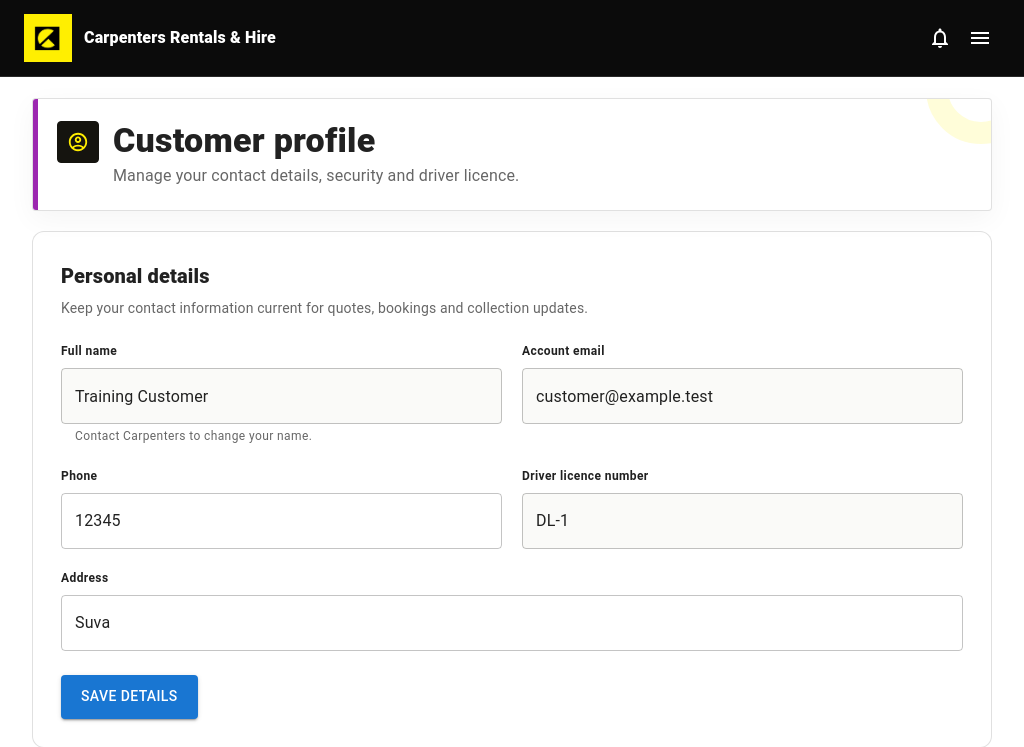
Scenario: retains profile edits when the server cannot accept current preference payloads
The width and height of the screenshot is (1024, 747).
Expected: the heading "Personal details" is shown, [61, 264, 210, 288]
Step 1. Click the button "Save details" → (129, 697), box [61, 675, 198, 719]
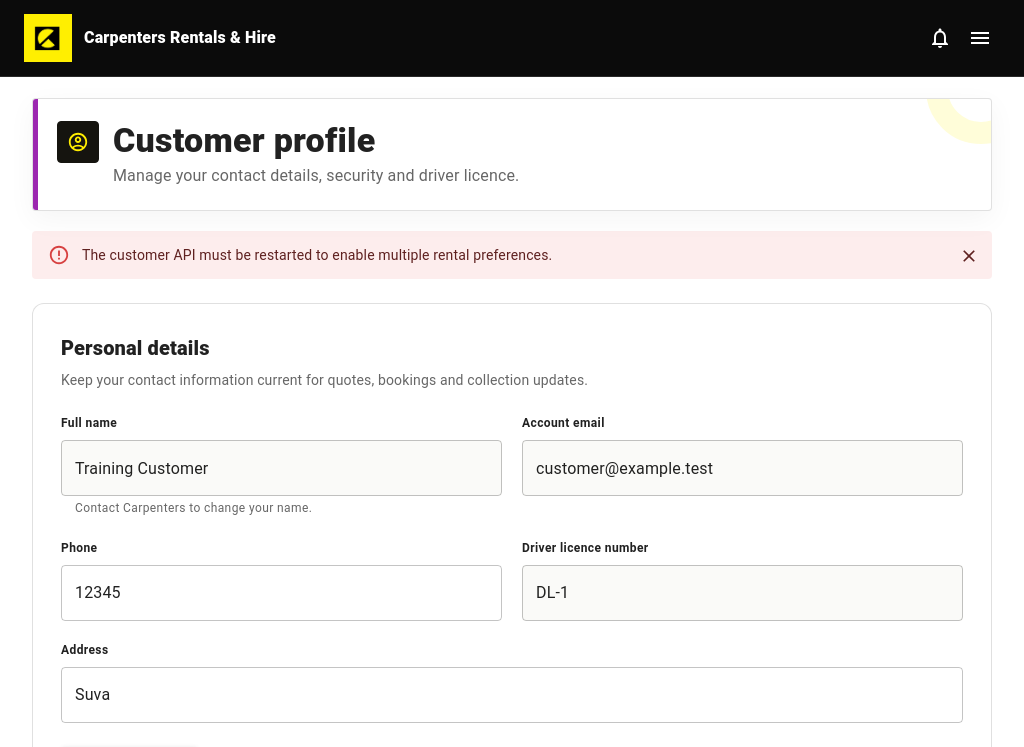
Expected: the text "The customer API must be restarted to enable multiple rental preferences." is shown, [82, 245, 552, 265]
